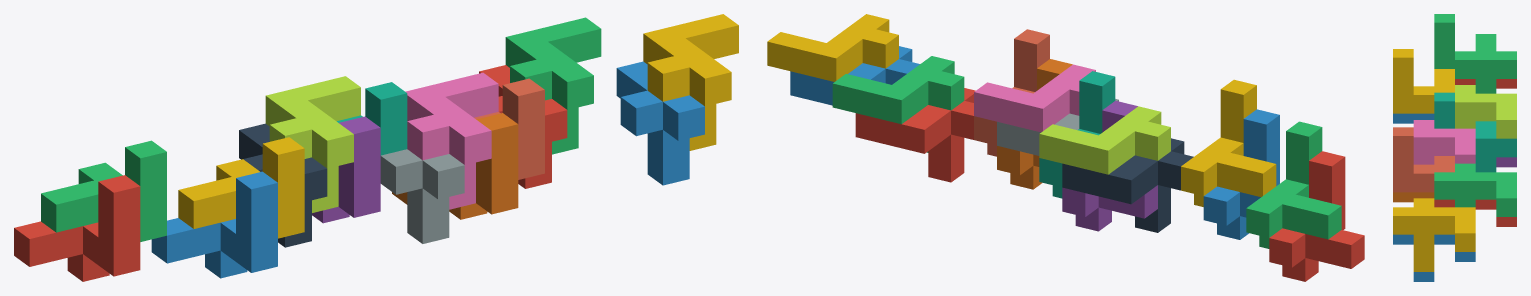
File: tiling.obj
The picture shows the model from 3 angles, left to right: view 1: azimuth 30°, elevation 25°; view 2: azimuth 150°, elevation 25°; view 3: azimuth 270°, elevation 25°; orthographic projection. The views are drawn at different scales.
Visible parts, largest first — view 1: copy_1_domain_1, copy_2_domain_8, copy_2_domain_4, copy_1_domain_2, copy_2_domain_3, copy_2_domain_7, copy_2_domain_6, copy_1_domain_4, copy_1_domain_3, copy_2_domain_2, copy_1_domain_6, copy_1_domain_5 (+4 smaller); view 2: copy_1_domain_3, copy_1_domain_4, copy_2_domain_7, copy_1_domain_1, copy_2_domain_3, copy_2_domain_8, copy_2_domain_5, copy_2_domain_1, copy_2_domain_4, copy_1_domain_2, copy_1_domain_5, copy_1_domain_7 (+4 smaller); view 3: copy_2_domain_8, copy_1_domain_3, copy_2_domain_7, copy_2_domain_3, copy_1_domain_4, copy_1_domain_8, copy_1_domain_7, copy_2_domain_4, copy_2_domain_6, copy_2_domain_5, copy_1_domain_2, copy_1_domain_6 (+2 smaller).
Part boxes in pixels (x1,y1,x2,y2): copy_1_domain_1: (14,175,140,281); copy_2_domain_8: (643,14,738,150); copy_2_domain_4: (405,72,498,209); copy_1_domain_2: (151,171,277,278); copy_2_domain_3: (265,76,360,212); copy_2_domain_7: (505,17,601,154); copy_2_domain_6: (616,61,704,185); copy_1_domain_4: (178,137,304,238); copy_1_domain_3: (41,140,166,241); copy_2_domain_2: (380,149,464,243); copy_1_domain_6: (392,113,518,219); copy_1_domain_5: (312,116,380,223); copy_1_domain_3: (1246,121,1341,248); copy_1_domain_4: (1181,79,1276,206); copy_2_domain_7: (832,56,964,152); copy_1_domain_1: (1269,151,1364,281); copy_2_domain_3: (1039,106,1170,174); copy_2_domain_8: (767,14,898,81); copy_2_domain_5: (855,88,975,182); copy_2_domain_1: (1062,138,1193,232); copy_2_domain_4: (974,64,1095,132); copy_1_domain_2: (1203,109,1279,239); copy_1_domain_5: (1062,100,1157,231); copy_1_domain_7: (1039,71,1115,198); copy_2_domain_8: (1393,198,1475,271); copy_1_domain_3: (1434,14,1516,93); copy_2_domain_7: (1434,163,1516,216); copy_2_domain_3: (1455,85,1516,138); copy_1_domain_4: (1393,49,1454,113); copy_1_domain_8: (1393,127,1454,192); copy_1_domain_7: (1434,92,1516,172); copy_2_domain_4: (1413,120,1475,164); copy_2_domain_6: (1393,234,1475,281); copy_2_domain_5: (1434,199,1516,226); copy_1_domain_2: (1393,113,1434,123); copy_1_domain_6: (1393,192,1434,202).
Size of the model in its own units: 26 by 5 by 6.
